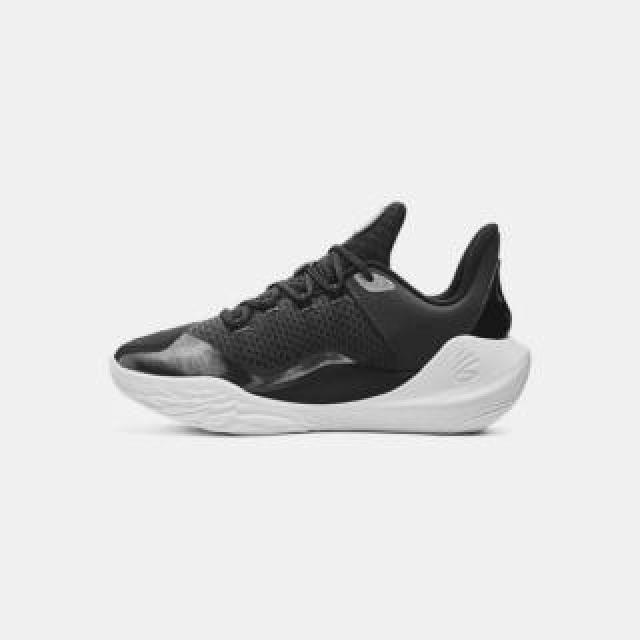shoes: (108, 201, 530, 437)
